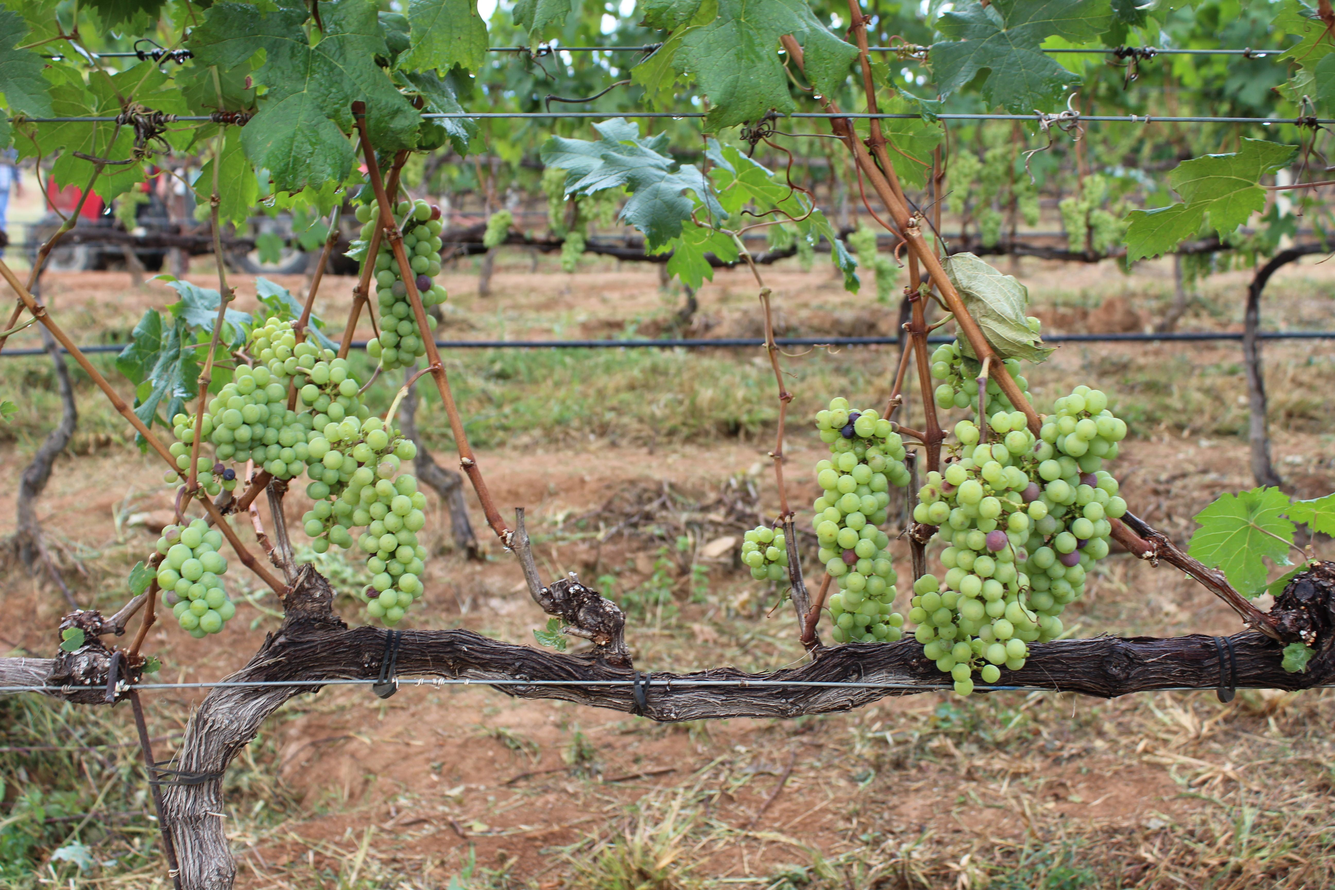leaf: (187, 0, 420, 191), (541, 118, 723, 251), (674, 0, 857, 129), (1125, 139, 1296, 261), (929, 0, 1111, 113), (943, 252, 1053, 362), (1188, 487, 1294, 597), (397, 0, 487, 72), (194, 127, 259, 226), (0, 5, 52, 116), (512, 0, 572, 44), (1288, 494, 1335, 536), (533, 617, 567, 651), (1282, 641, 1314, 673), (128, 561, 156, 595), (59, 627, 86, 653), (961, 340, 974, 357), (215, 140, 216, 141)
